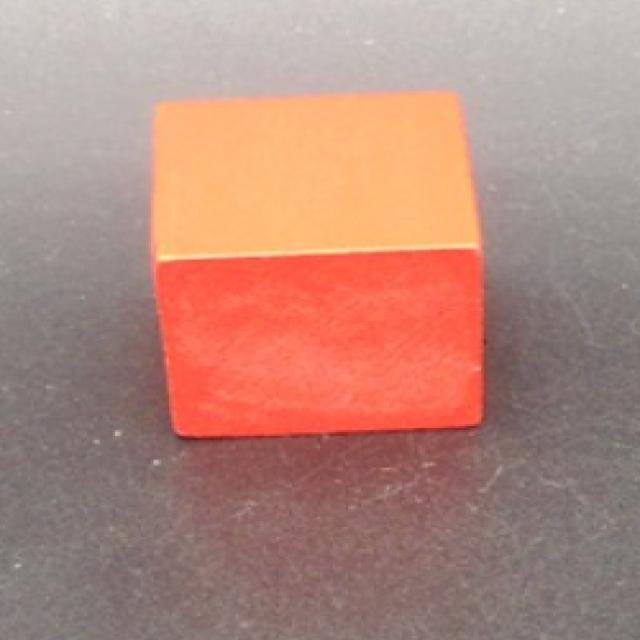red cube: (148, 89, 486, 440)
